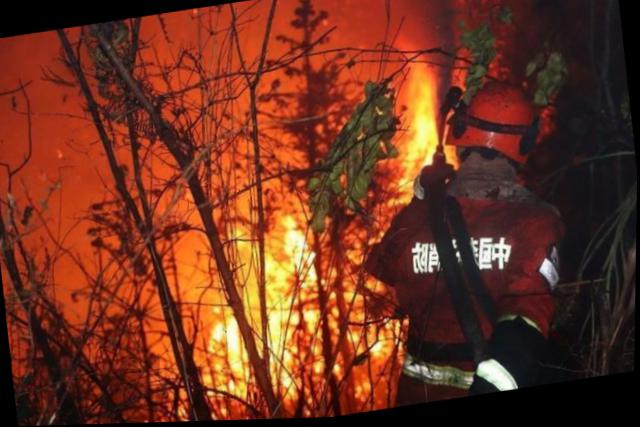fire: (111, 39, 489, 423)
